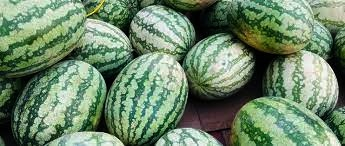watermelon: (107, 51, 191, 136), (17, 62, 104, 144), (260, 51, 339, 120), (187, 33, 254, 103), (132, 5, 197, 56)
